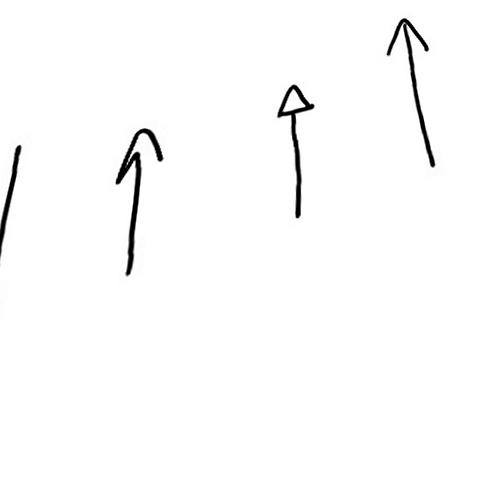arrow: (380, 13, 441, 170), (107, 125, 166, 282), (272, 76, 315, 219)
arrownohead: (3, 129, 23, 262)
